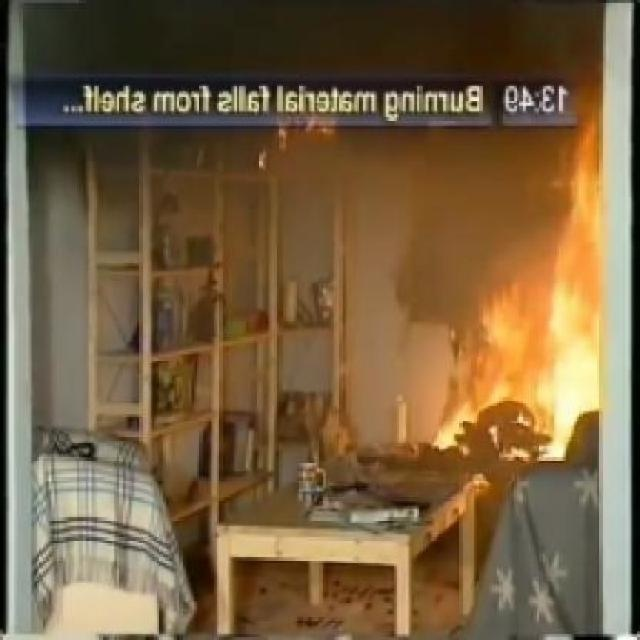fire: (469, 137, 603, 409)
